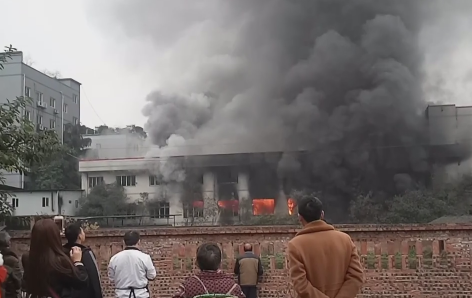smoke: (250, 14, 430, 188)
